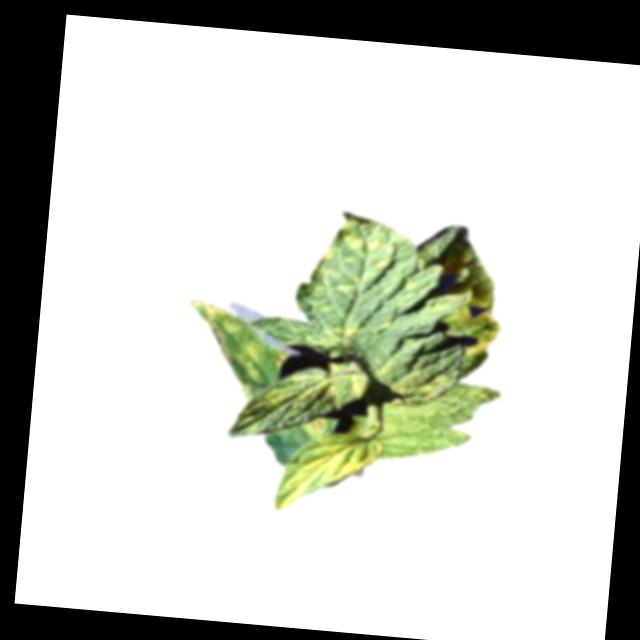Leaf_Mold: (176, 298, 294, 404), (272, 427, 379, 519), (267, 366, 366, 419), (319, 210, 401, 273), (449, 293, 503, 360)
